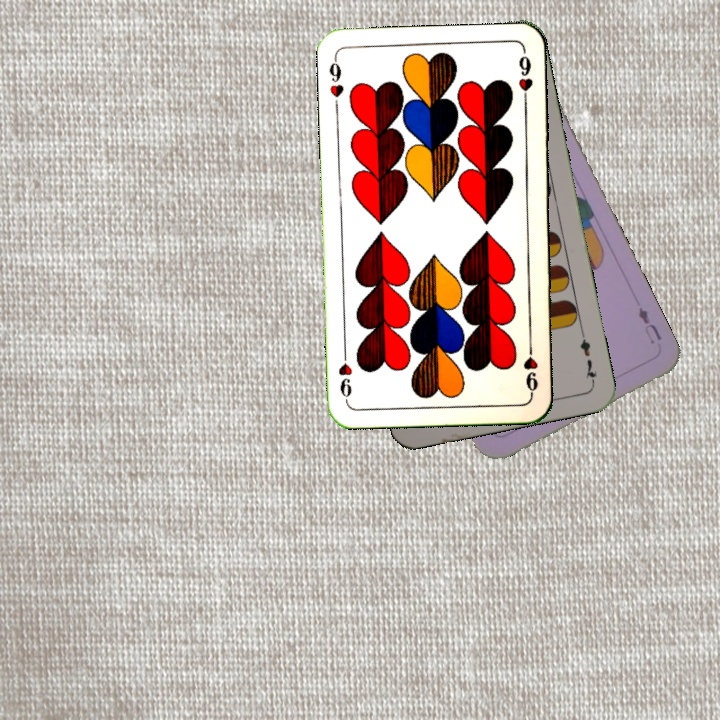E7: (576, 328, 600, 386)
EU: (634, 303, 665, 347)
H9: (520, 338, 541, 397), (325, 53, 346, 100)
